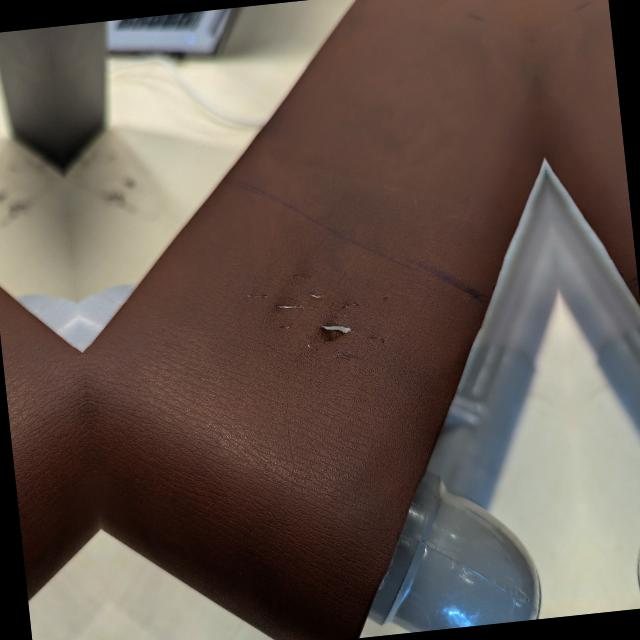belt_crack: (226, 233, 420, 373)
